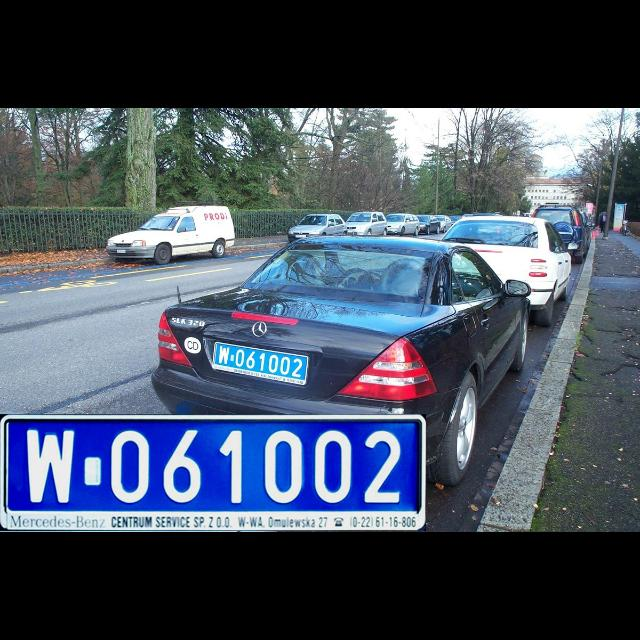pl_license_plate: (3, 418, 421, 512)
